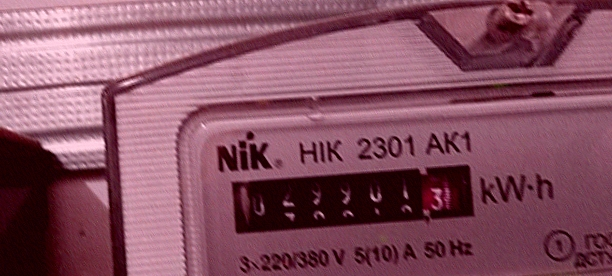0: (246, 189, 266, 217), (365, 174, 383, 205)
1: (395, 172, 410, 200)
2: (276, 181, 296, 209)
3: (425, 184, 444, 211)
9: (306, 179, 324, 207), (337, 178, 352, 206)
screen: (220, 154, 484, 244)
